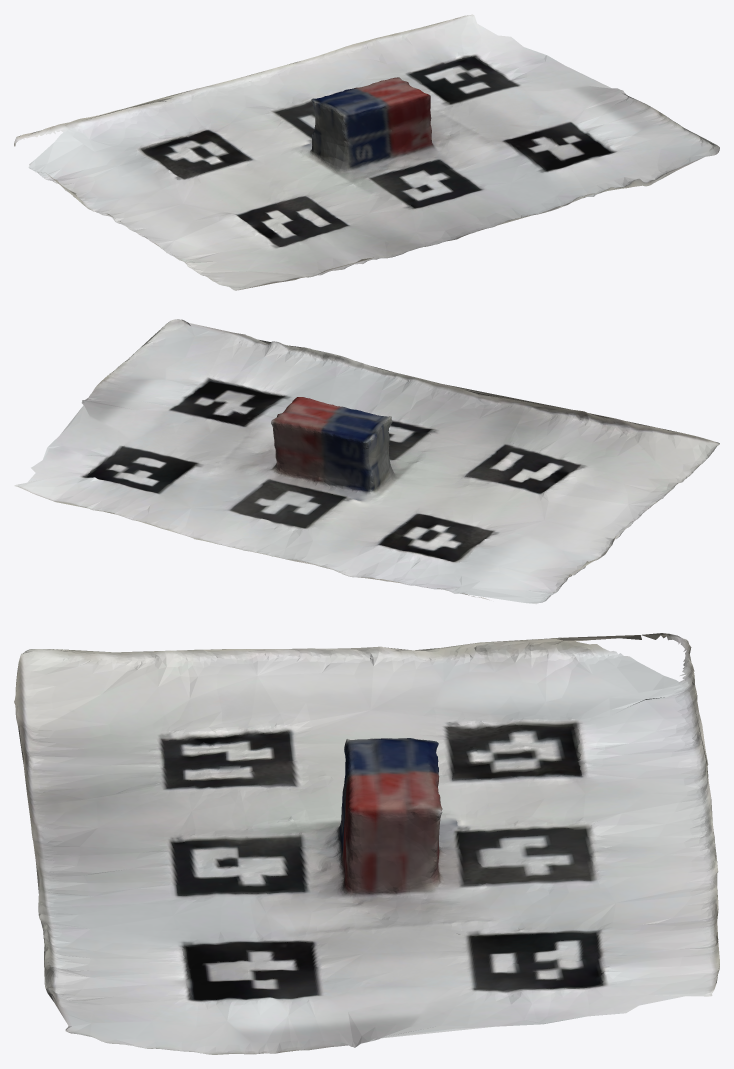
File: magnetOnTable94.glb
3 renders of one model, top to bottom at view 1: azimuth 30°, elevation 25°; view 2: azimuth 150°, elevation 25°; view 3: azimuth 270°, elevation 25°, orthographic. The views are drawn at different scales.
Visible parts, largest first — view 1: mesh; view 2: mesh; view 3: mesh.
Boxes of the visible parts, x1,y1,x2,y2 form: mesh: (14, 14, 719, 290); mesh: (14, 319, 719, 604); mesh: (14, 633, 719, 1054).
Size of the model in its own units: 0.3117 by 0.0348 by 0.2243.
1 material, 1 textured.
